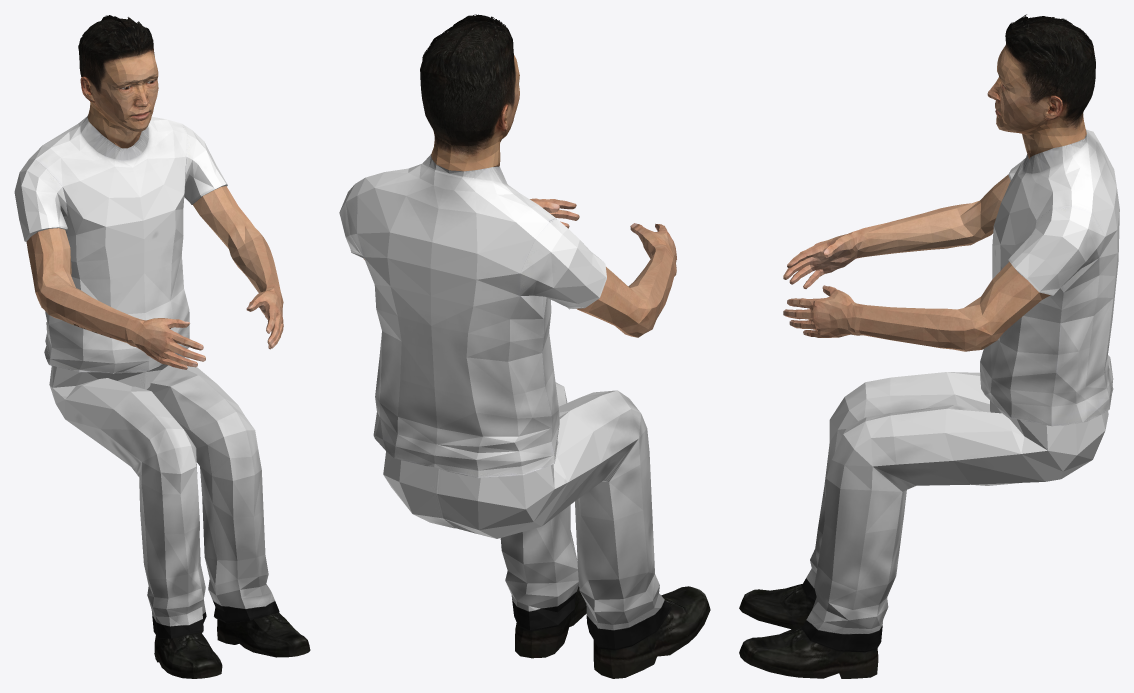
File: kenji_formal.obj
The picture shows the model from 3 angles, left to right: view 1: azimuth 30°, elevation 25°; view 2: azimuth 150°, elevation 25°; view 3: azimuth 270°, elevation 25°; orthographic projection. The views are drawn at different scales.
Visible parts, largest first — view 1: Trousers_5, Top_tee_4, Skin_tee_3, Shoes_2, Head_0, Hair_1; view 2: Top_tee_4, Trousers_5, Head_0, Shoes_2, Skin_tee_3, Hair_1; view 3: Trousers_5, Top_tee_4, Skin_tee_3, Head_0, Shoes_2, Hair_1.
Part boxes in pixels (x1=…): Trousers_5: x1=49, y1=354, x2=274, y2=626; Top_tee_4: x1=14, y1=115, x2=227, y2=372; Skin_tee_3: x1=26, y1=186, x2=283, y2=369; Shoes_2: x1=152, y1=601, x2=310, y2=678; Head_0: x1=79, y1=18, x2=158, y2=148; Hair_1: x1=78, y1=15, x2=153, y2=74; Top_tee_4: x1=339, y1=154, x2=606, y2=478; Trousers_5: x1=383, y1=382, x2=664, y2=630; Head_0: x1=420, y1=21, x2=519, y2=171; Shoes_2: x1=512, y1=586, x2=710, y2=678; Skin_tee_3: x1=363, y1=198, x2=676, y2=337; Hair_1: x1=420, y1=14, x2=513, y2=104; Trousers_5: x1=806, y1=372, x2=1108, y2=634; Top_tee_4: x1=980, y1=129, x2=1119, y2=426; Skin_tee_3: x1=783, y1=175, x2=1050, y2=351; Head_0: x1=987, y1=19, x2=1095, y2=158; Shoes_2: x1=739, y1=578, x2=882, y2=678; Hair_1: x1=1005, y1=14, x2=1093, y2=95.
Size of the model in its own units: 0.6012 by 1.46 by 0.7948.
6 materials, 6 textured.
